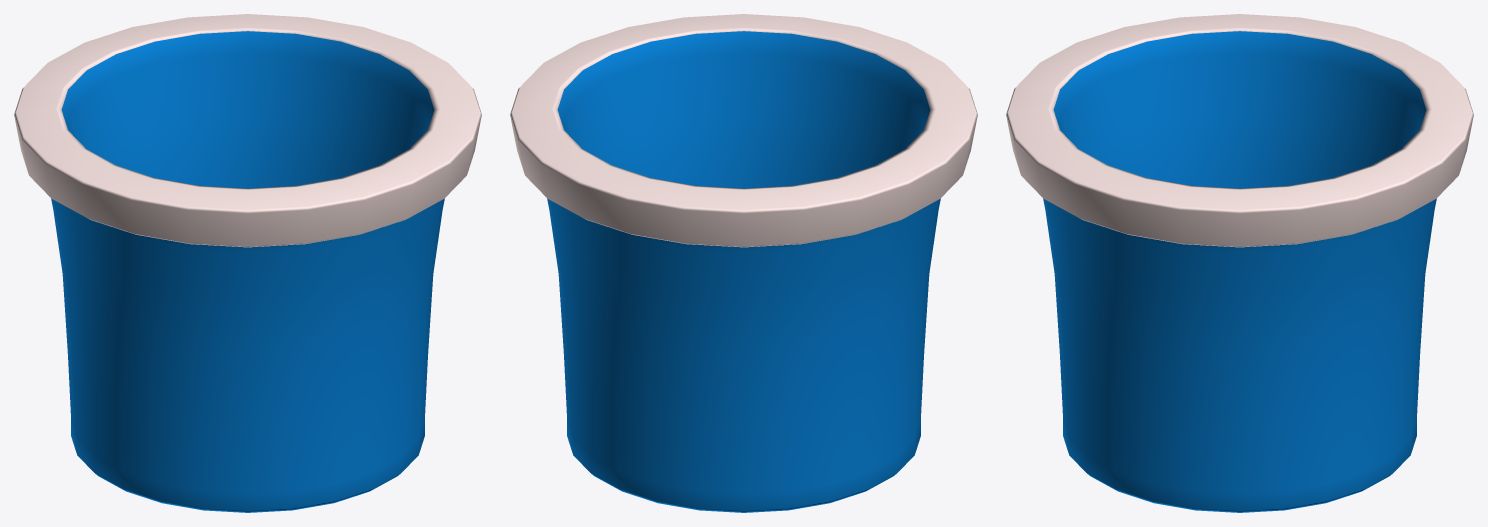
File: Public_2_Vase_1.glb
3 renders of one model, left to right at view 1: azimuth 30°, elevation 25°; view 2: azimuth 150°, elevation 25°; view 3: azimuth 270°, elevation 25°, orthographic.
Visible parts, largest first — view 1: Public_2_Vase_1; view 2: Public_2_Vase_1; view 3: Public_2_Vase_1.
Boxes of the visible parts, x1,y1,x2,y2 form: Public_2_Vase_1: (14, 14, 481, 512); Public_2_Vase_1: (510, 14, 977, 512); Public_2_Vase_1: (1006, 14, 1473, 512).
Bounding box in the file's own units: 1.57 × 1.22 × 1.57.
Materials: 1 (1 with a texture image).
